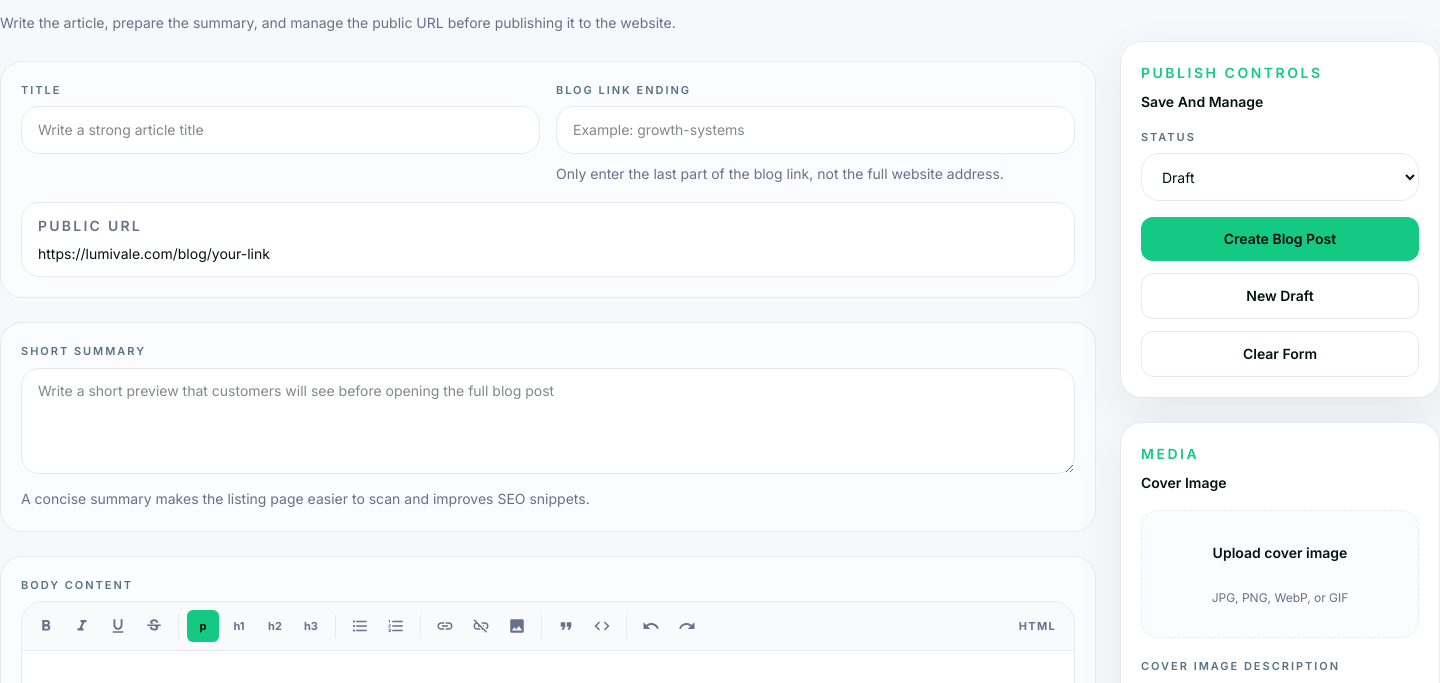
Test: admin blog editor › list buttons convert the current block into visible list markup
Click the button "HTML": click(1037, 626) [1009, 610, 1066, 642]
(page scrolled)
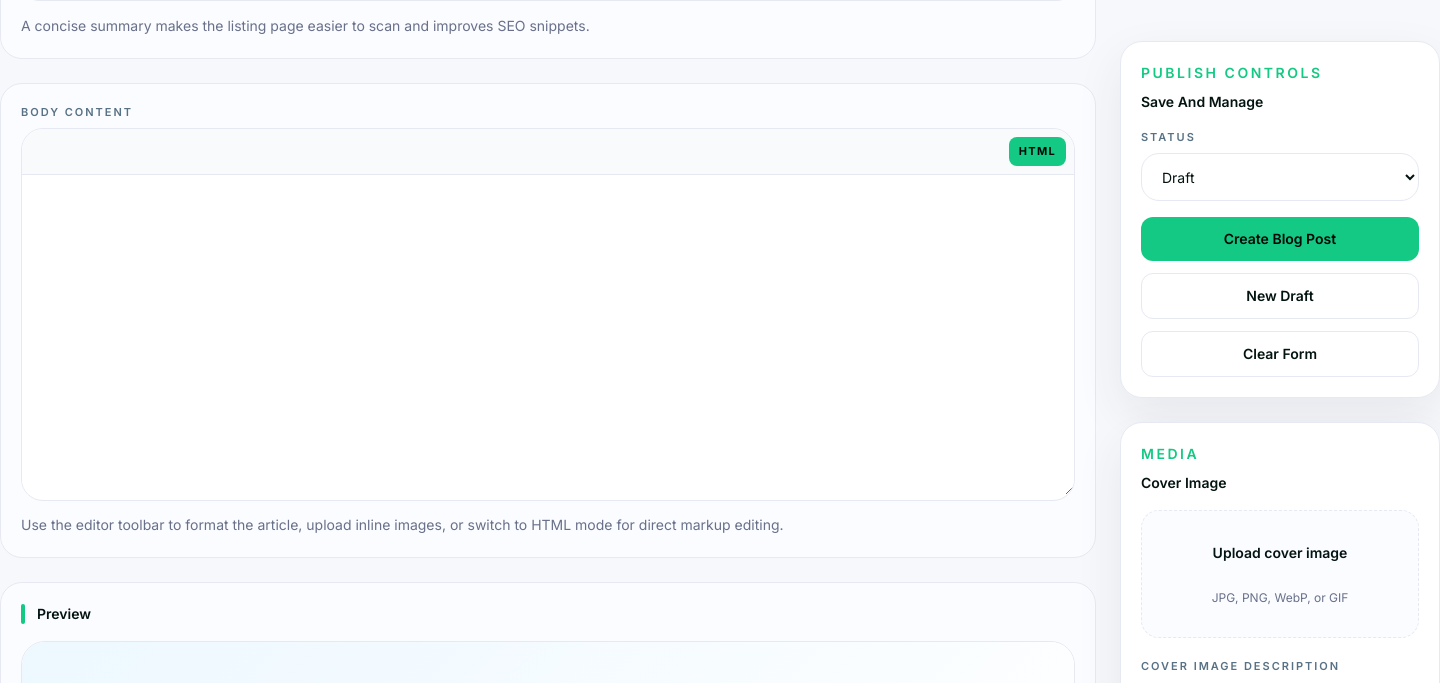
In the text box named "HTML editor": (548, 335) [22, 175, 1074, 495], type "<p>List item</p>"
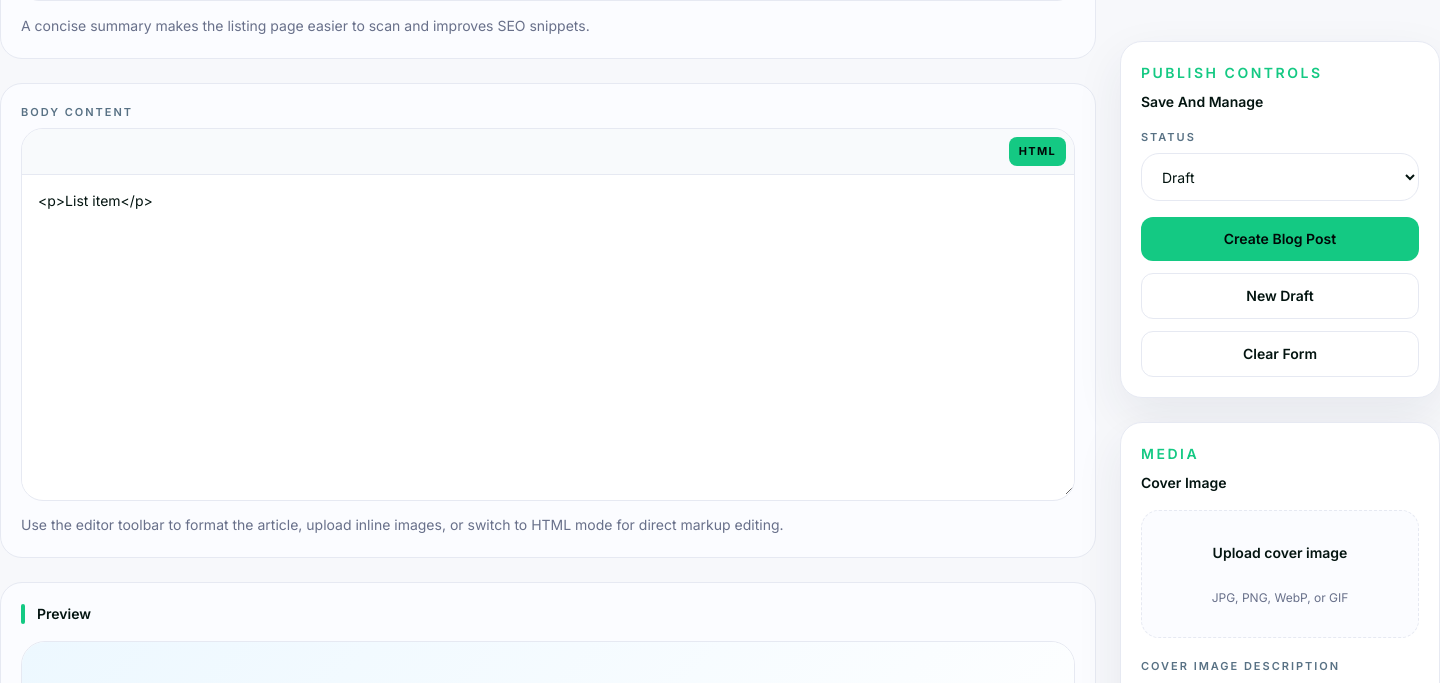
Click the button "HTML": click(1037, 152) [1009, 137, 1066, 166]
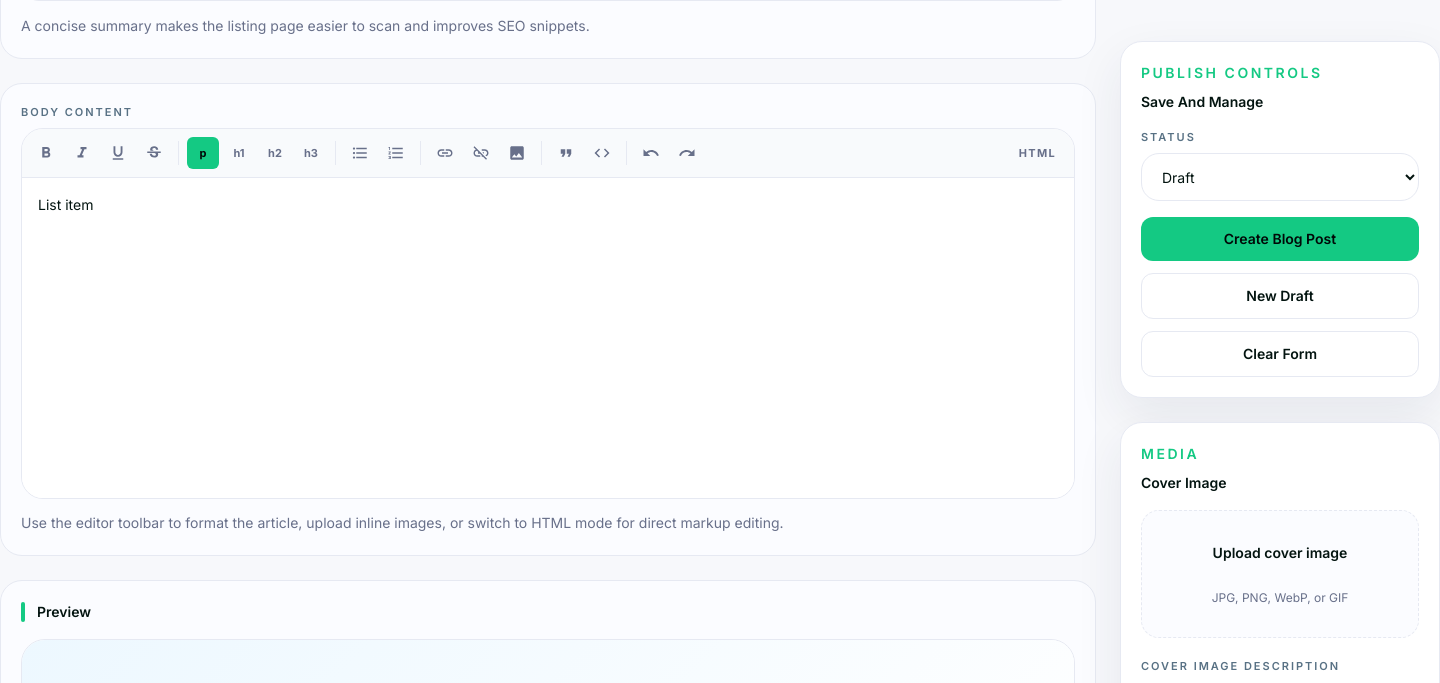
Click the button named "Bulleted list": click(360, 153) [344, 137, 376, 169]
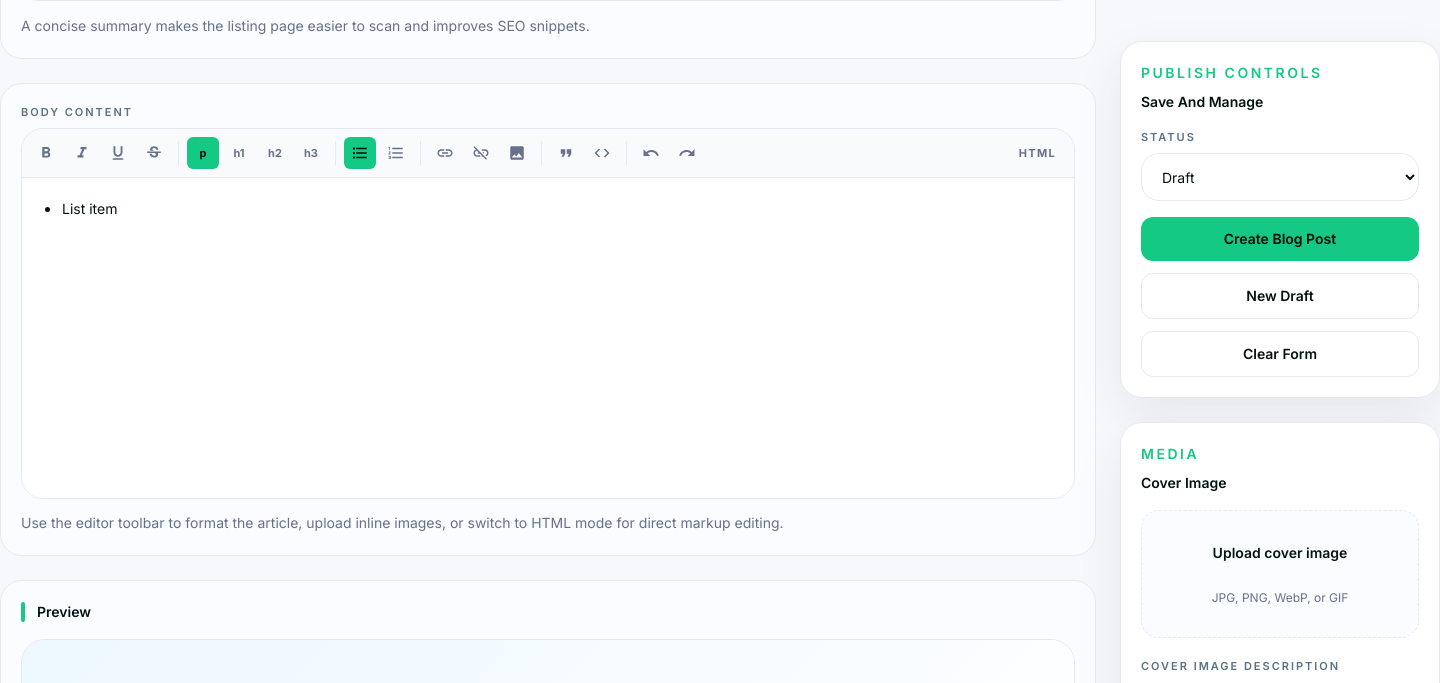
Check: the list item "List item" is shown, box [62, 200, 118, 217]
Click the button named "Numbered list": click(396, 153) [380, 137, 412, 169]
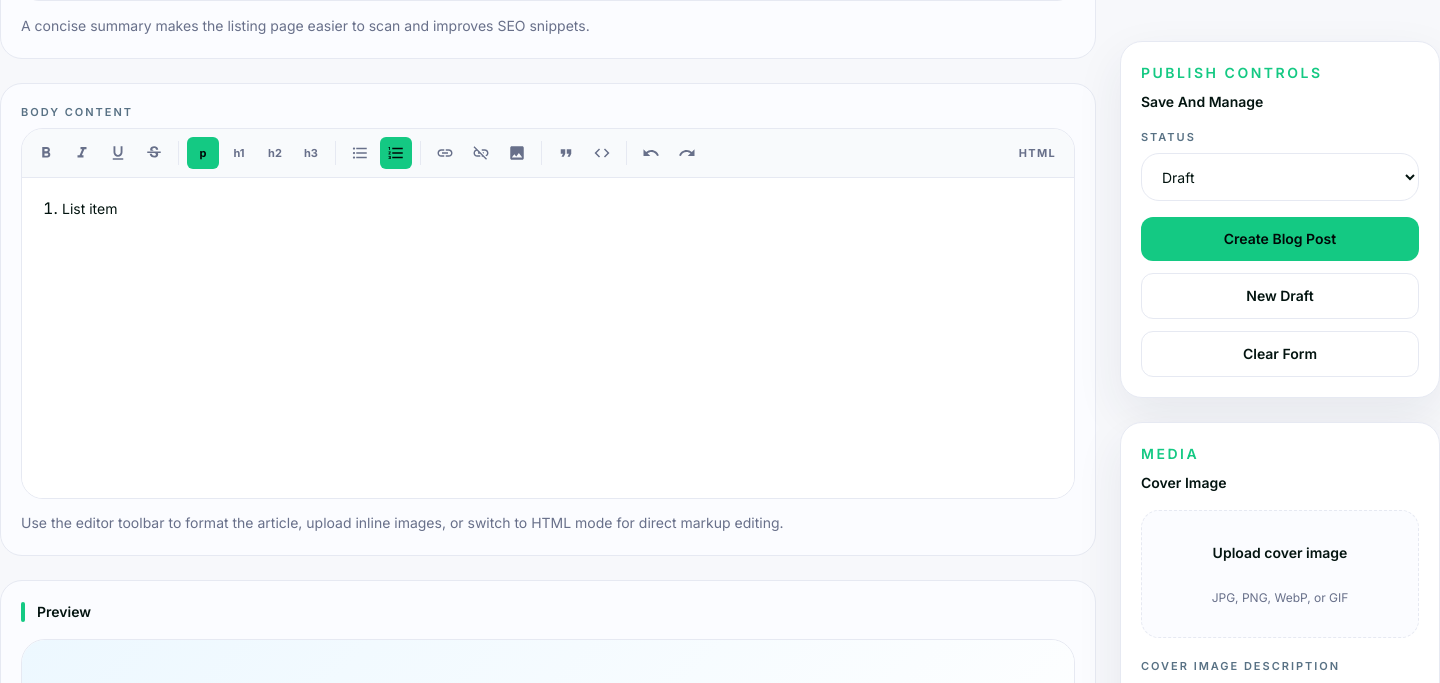
Check: the list item "List item" is shown, box [62, 200, 118, 217]
Check: the list is gone
